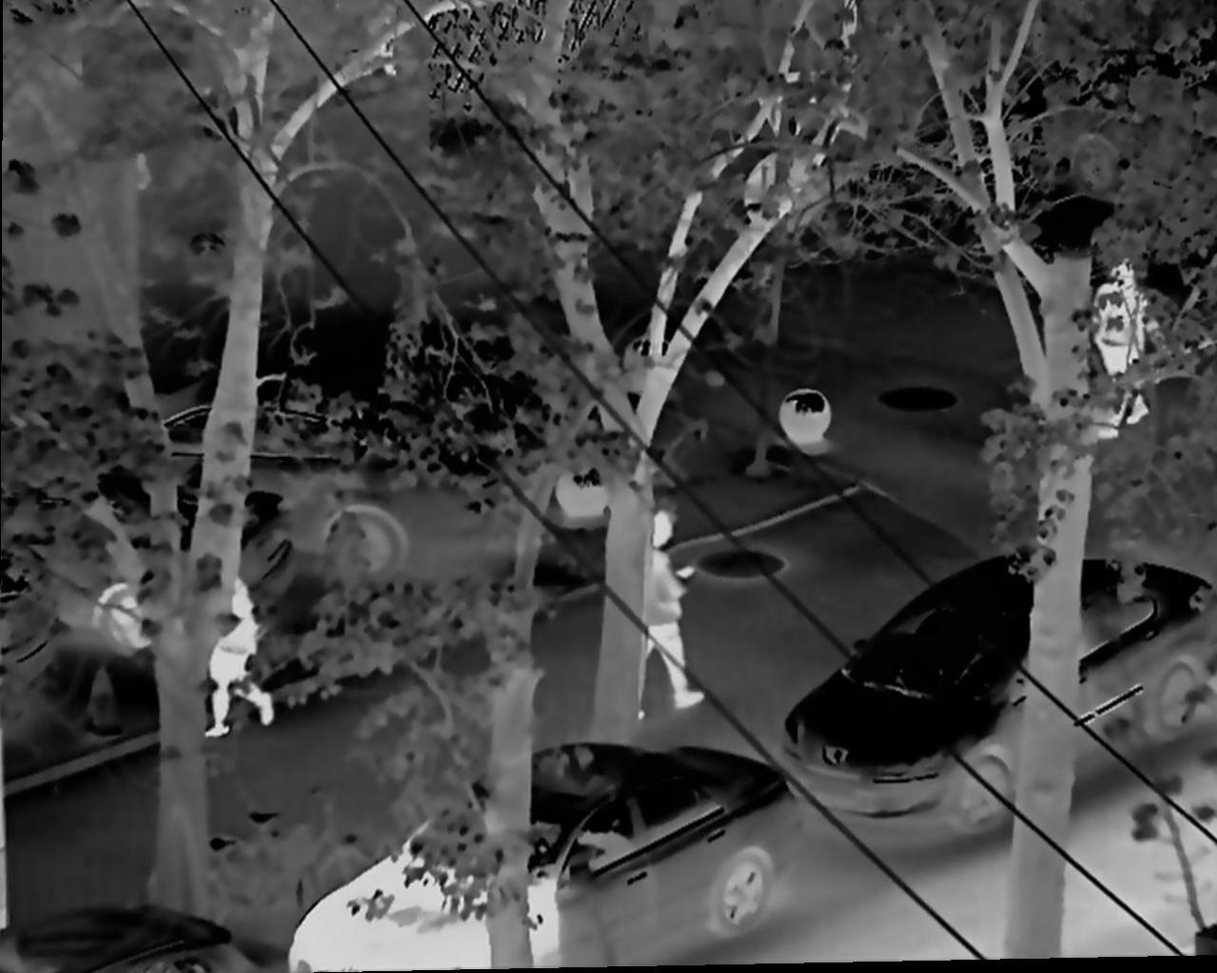person: (625, 502, 708, 719), (190, 548, 274, 736), (1089, 262, 1158, 428)
